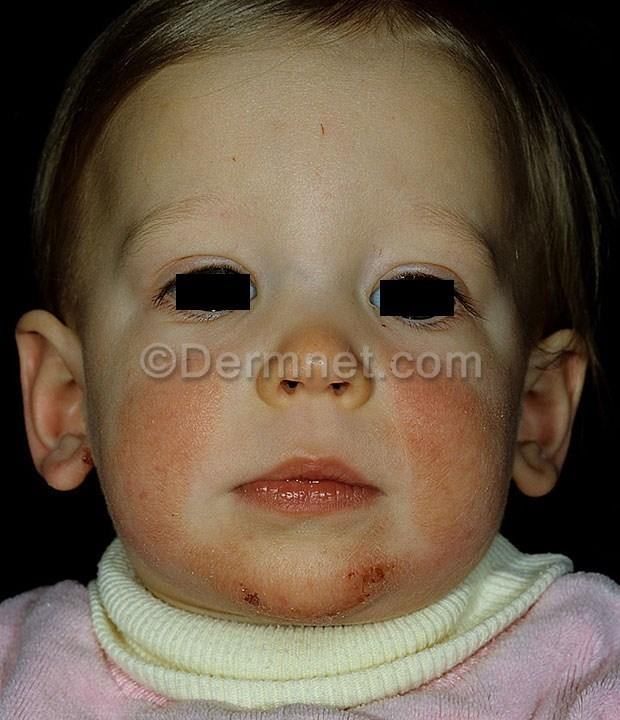eritema 1: (100, 352, 517, 616)
exudacion 1: (239, 545, 400, 619)
xerosis 1: (389, 370, 495, 560), (124, 402, 234, 583)
